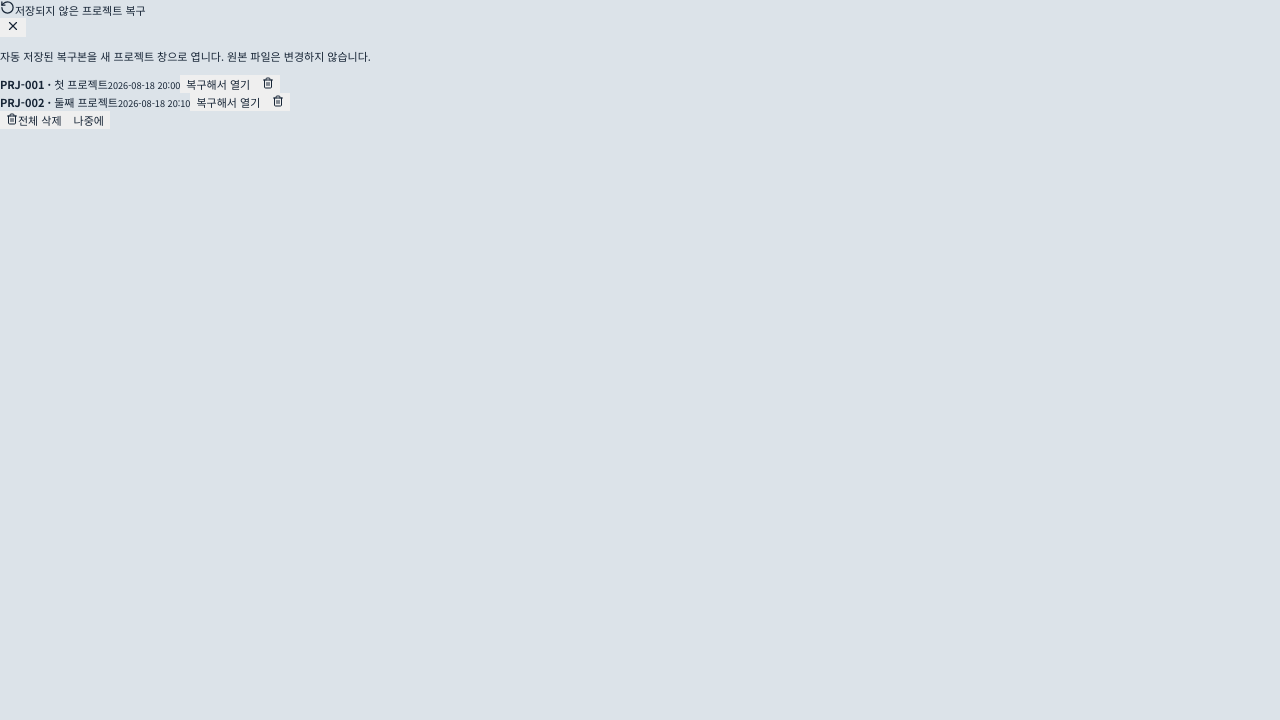
Test: 저장되지 않은 프로젝트 복구 › 전체 삭제 확인을 취소하면 복구본을 유지한다
This screenshot has width=1280, height=720.
Click the button "전체 삭제". click: (34, 120)
box: [0,111,68,129]
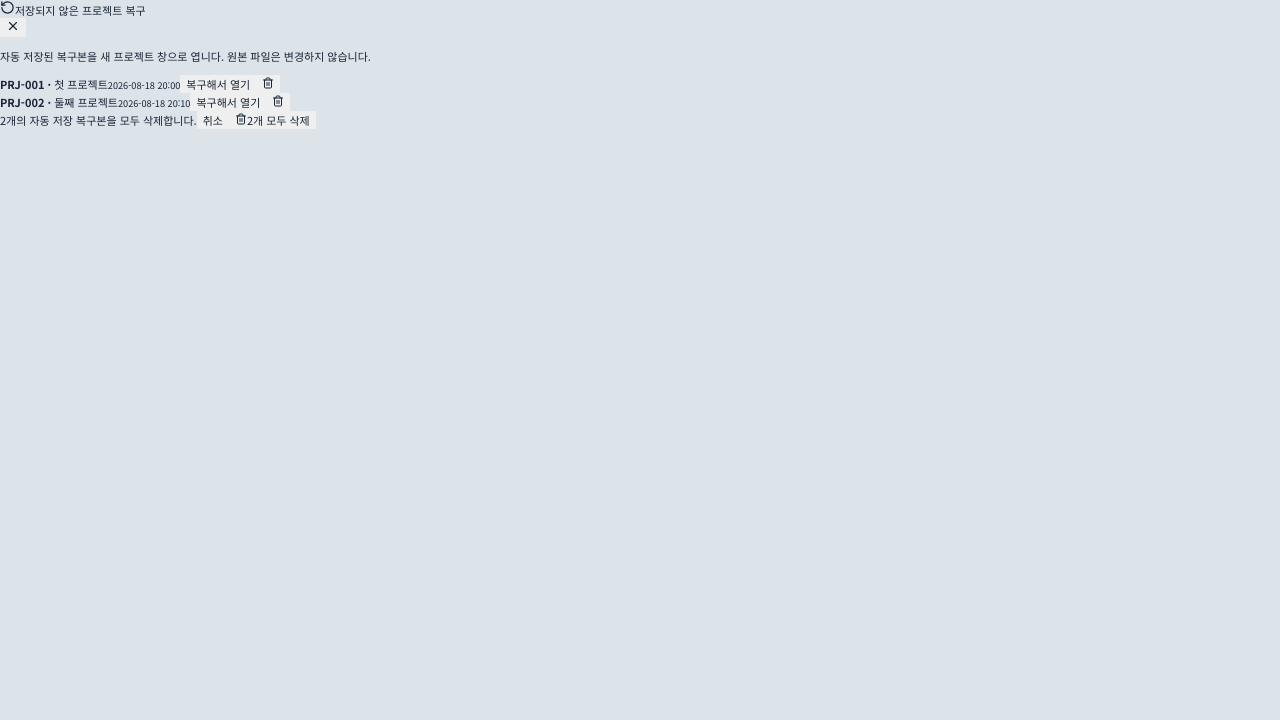
Click the button "취소". click: (213, 120)
box: [197,111,229,129]
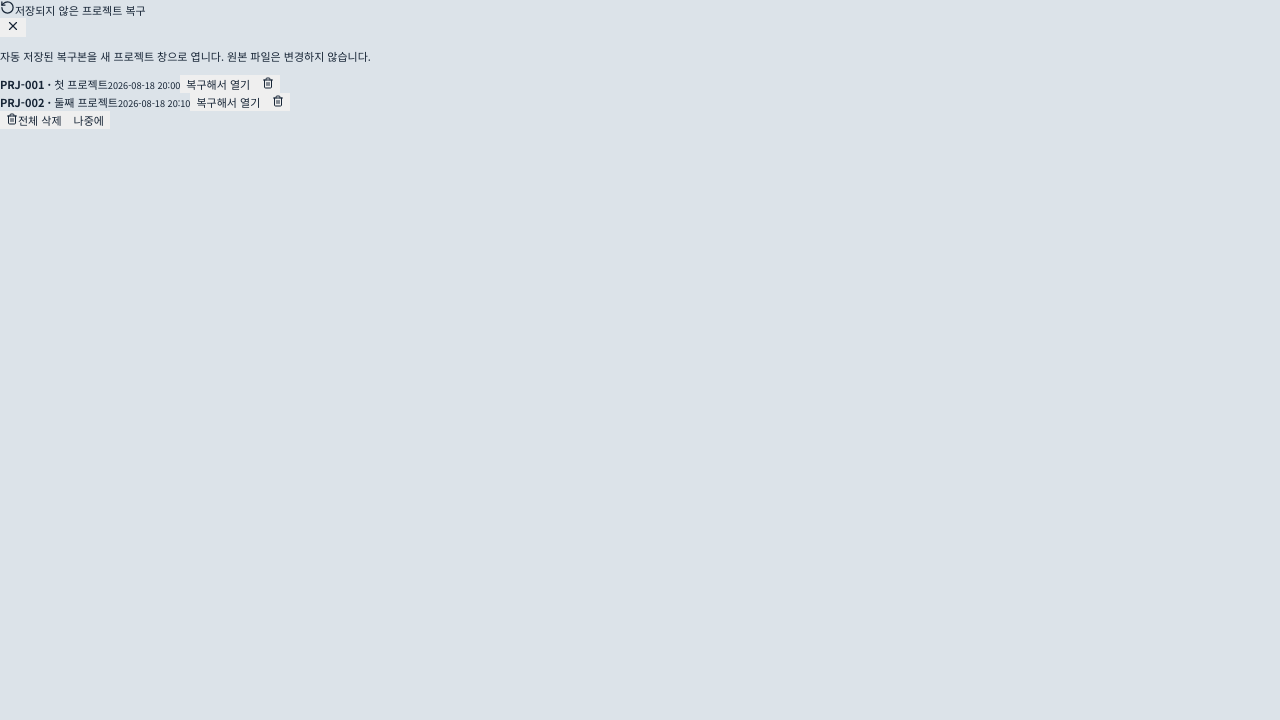
Expected: the button "전체 삭제" is shown, [0,111,68,129]
